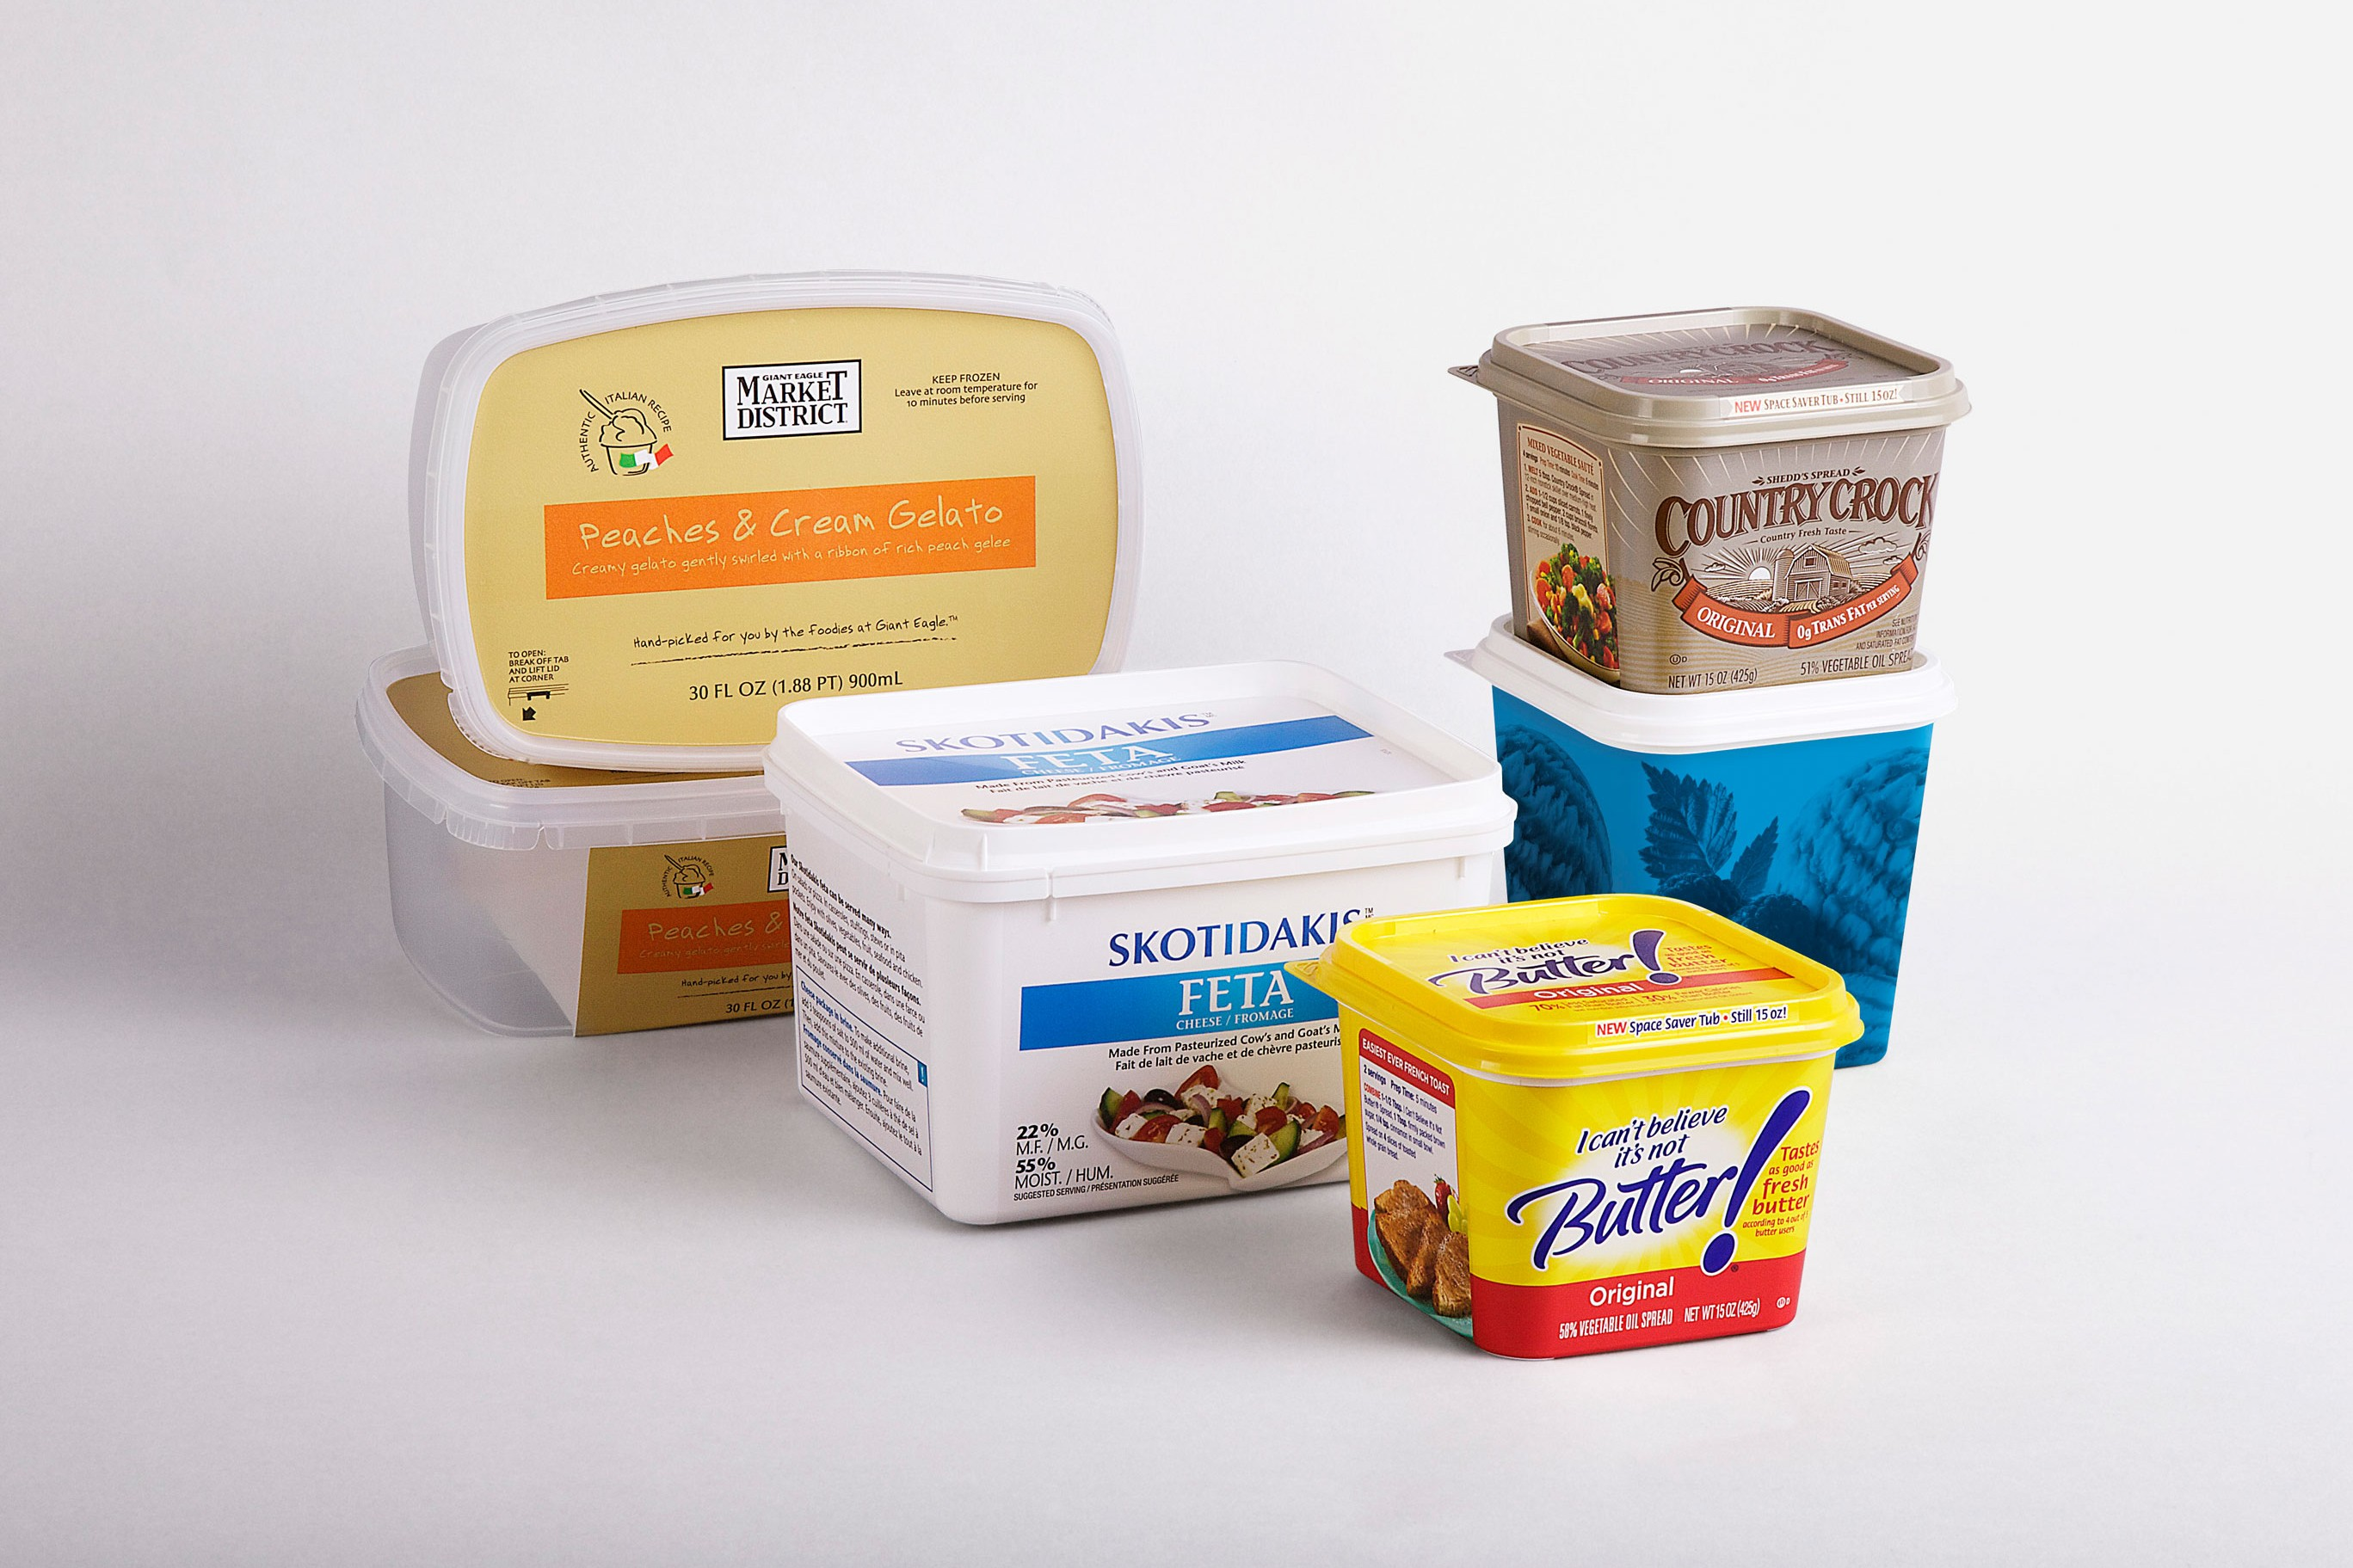PlasticBox: (1264, 880, 1877, 1374)
